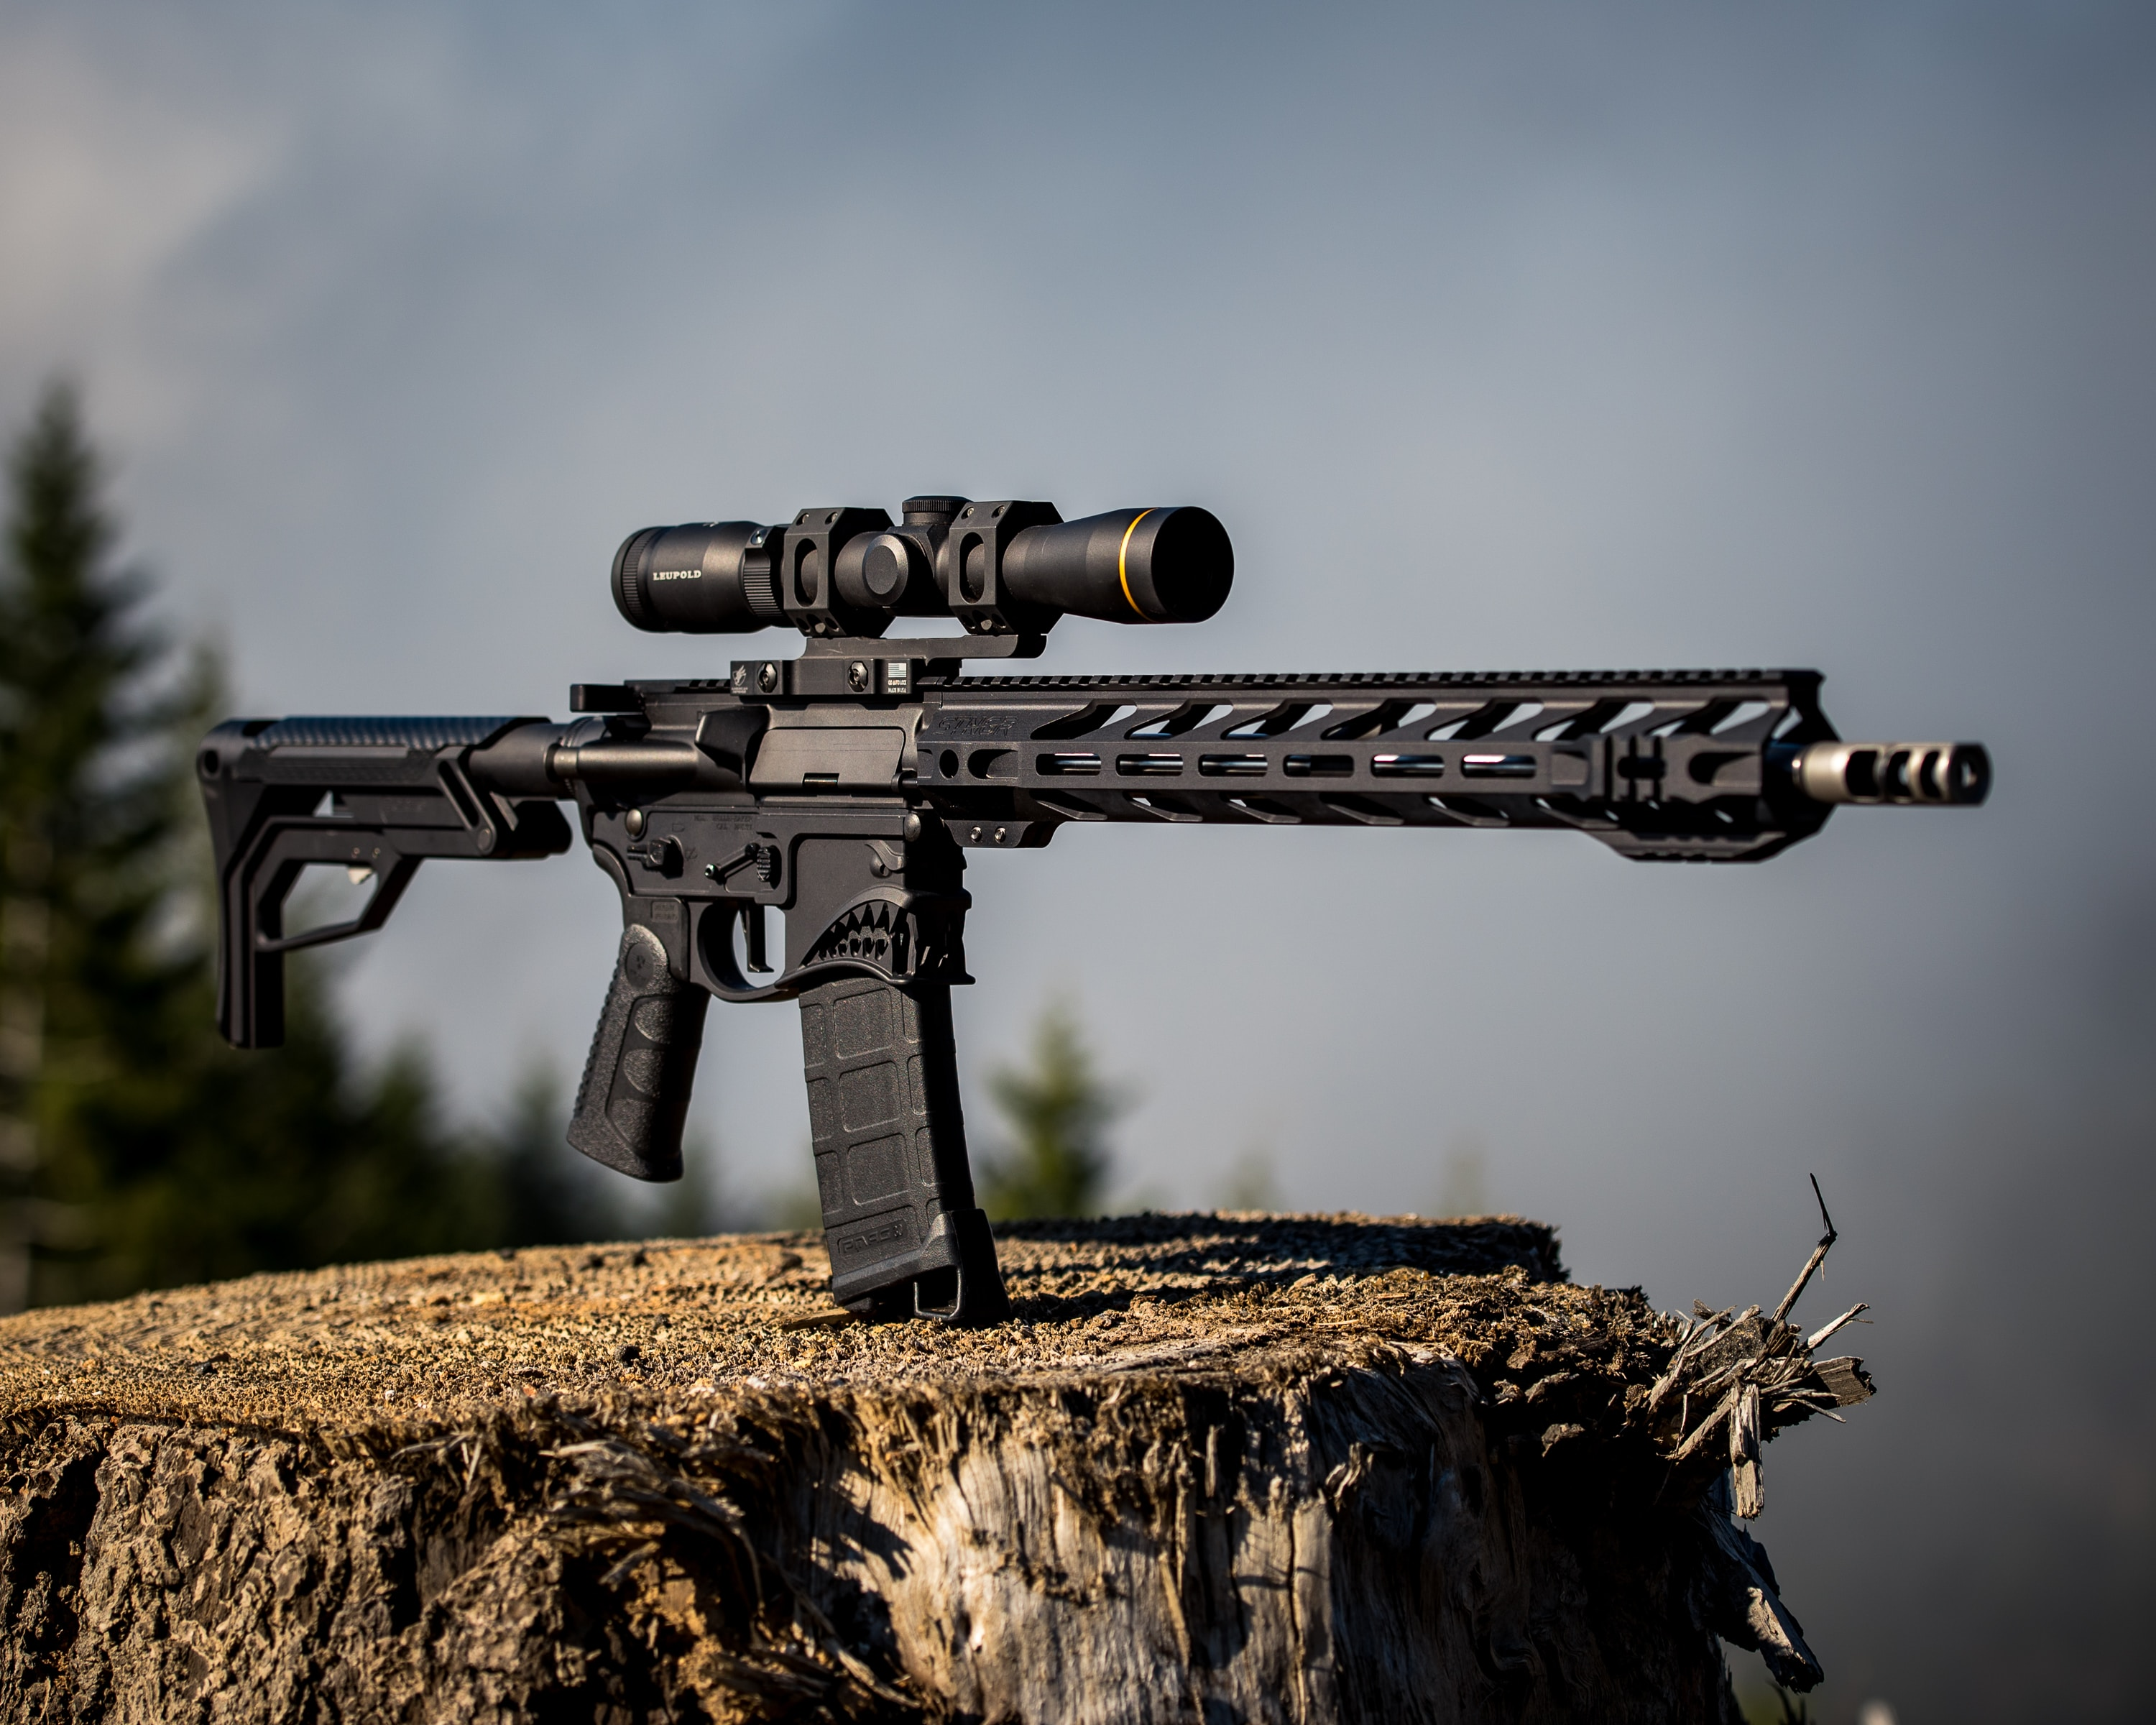gun: (187, 479, 1996, 1336)
